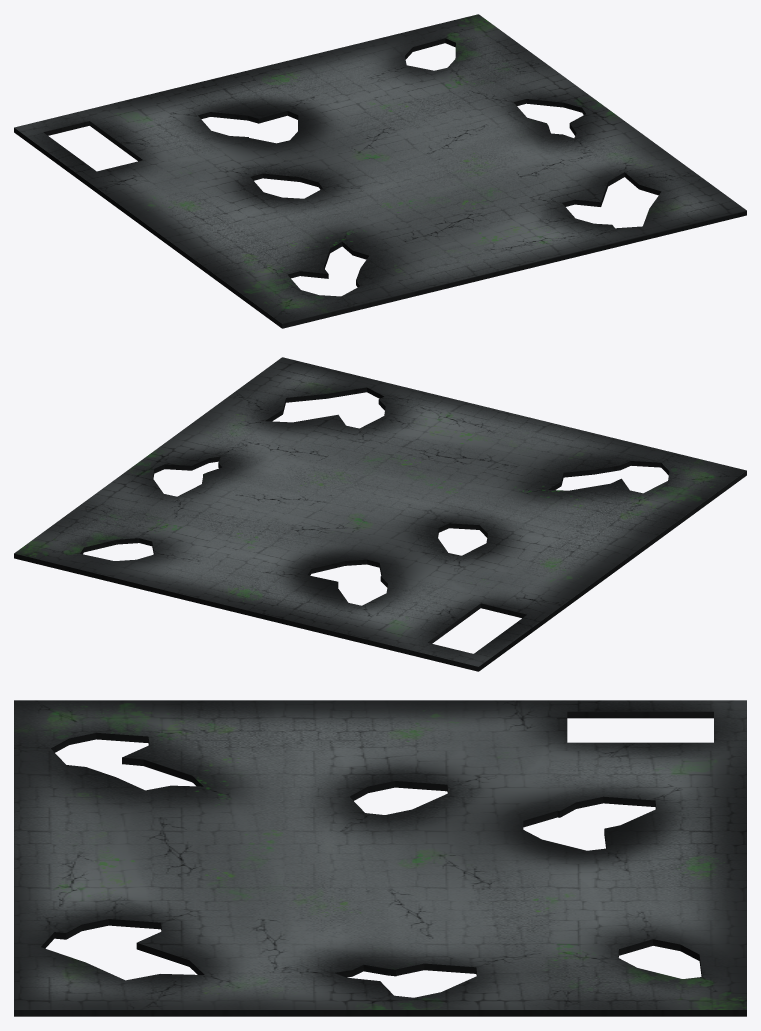
Rendered from Floor 5.fbx.
3 renders of one model, top to bottom at view 1: azimuth 30°, elevation 25°; view 2: azimuth 150°, elevation 25°; view 3: azimuth 270°, elevation 25°, orthographic. The views are drawn at different scales.
Parts seen in each view (by area): view 1: Floor 5; view 2: Floor 5; view 3: Floor 5.
Part boxes in pixels (x1,y1,x2,y2): Floor 5: (14, 14, 746, 328); Floor 5: (14, 357, 746, 671); Floor 5: (14, 700, 746, 1016).
Size of the model in its own units: 2000 by 20 by 2000.
